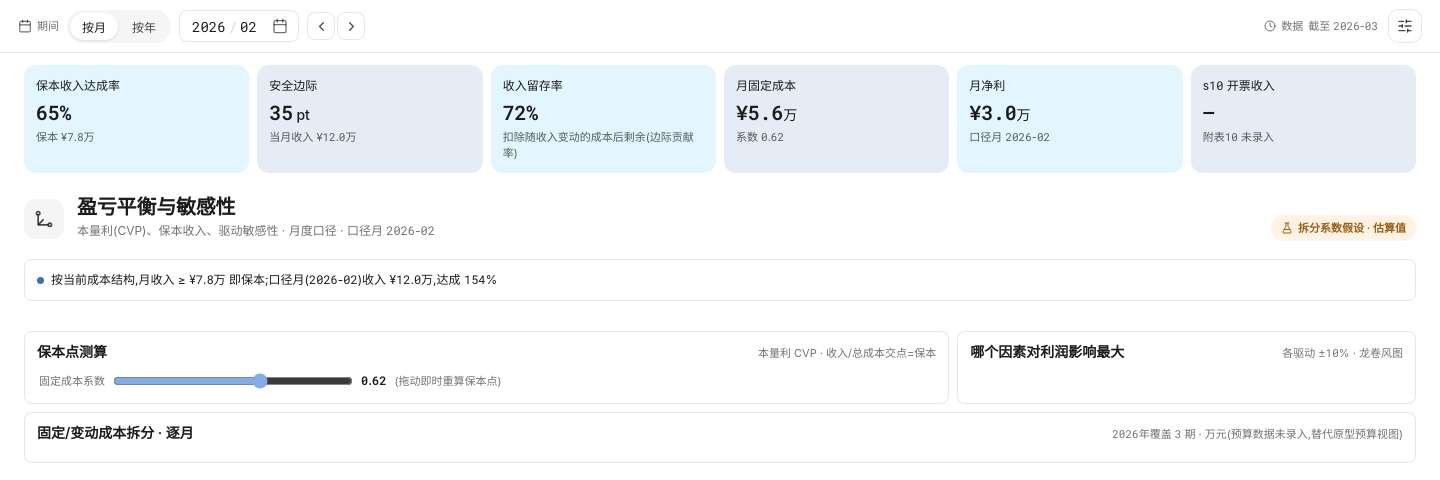
Test case: 盈亏平衡与敏感性 › ❗C6-15:只有拖滑杆那一次三张图瞬到(顶层 0);换月照常 200 形变(option 不写动画键)
Step 1. Set the slider to "0.3" → (188, 381), box [113,373,353,389]
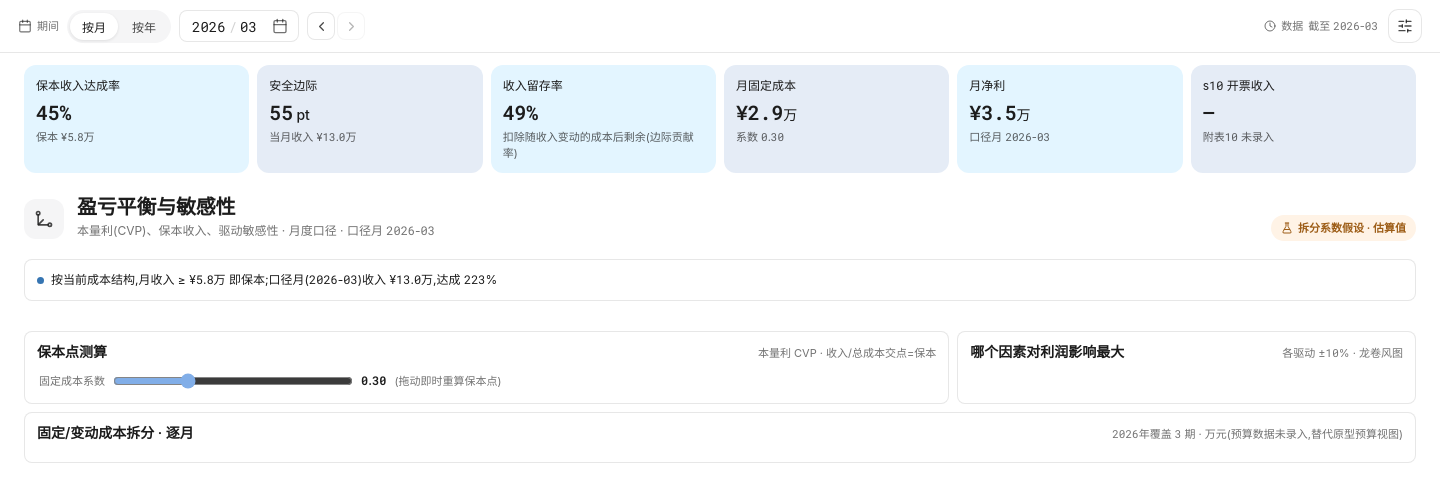
expect the text with class "ak-sub" shows "口径月 2026-03": met, box [77,223,435,238]
